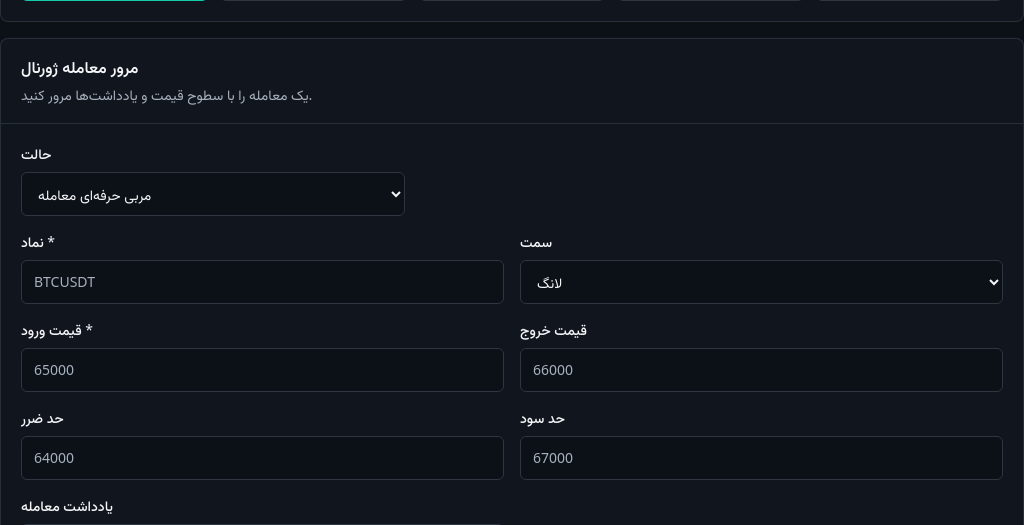
AiAssistantScreen language › shows the answer under Persian headings, with no English dev wording left on a Persian screen
(page scrolled)
Type "EURUSD" into the field named "symbol" at [262, 282], box [21,260,504,304]
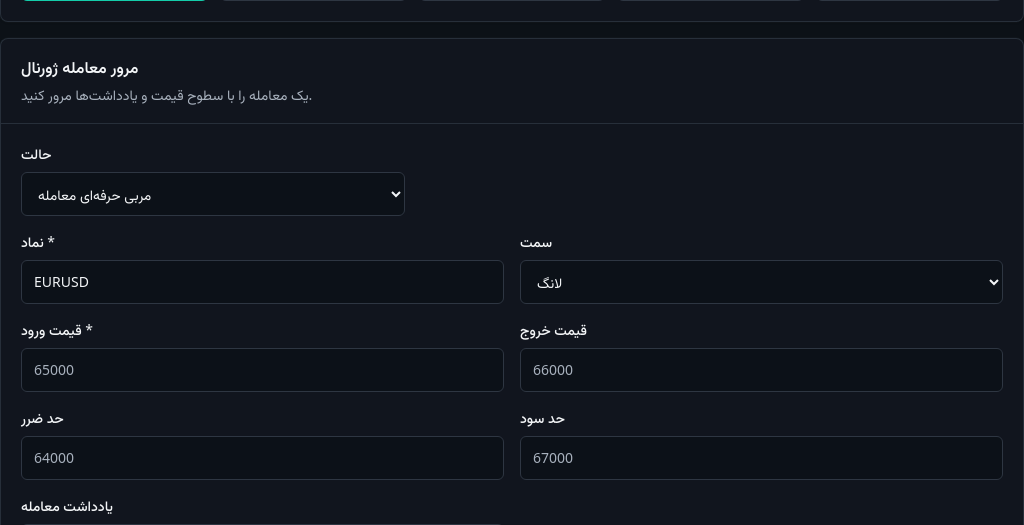
Type "1.1" into the field named "entryPrice" at [262, 370], box [21,348,504,392]
(page scrolled)
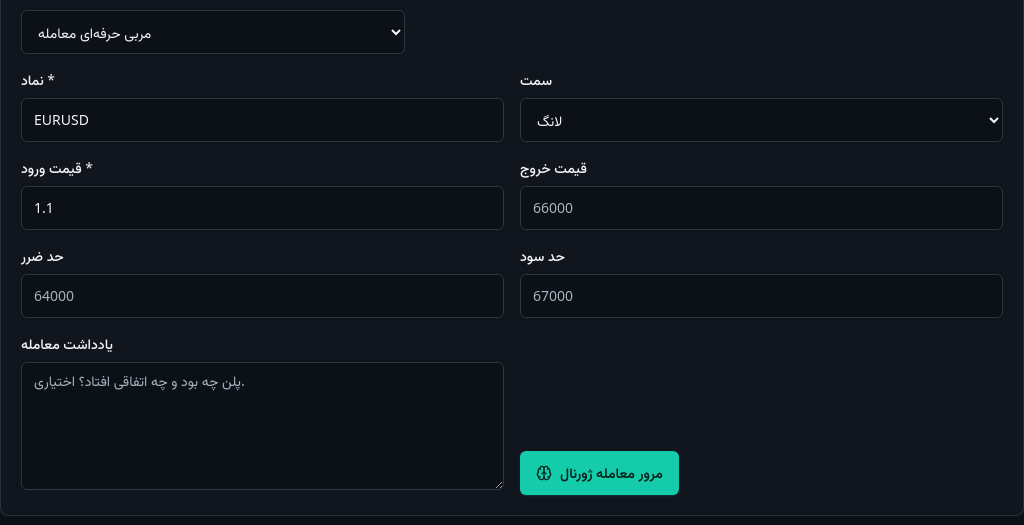
Submit the form
(page scrolled)
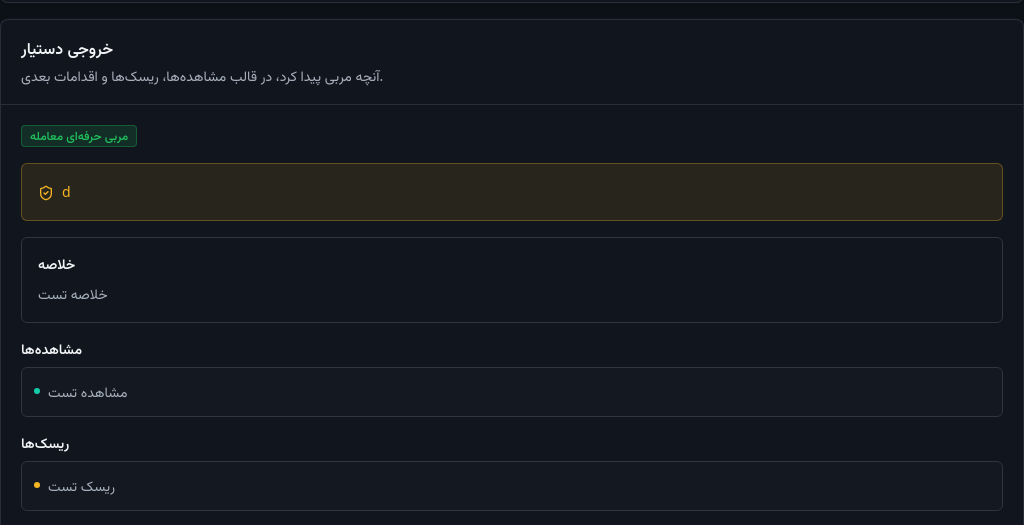
Expected: the text "اقدامات بعدی" is shown, [21,66,383,85]
Expected: the text "خلاصه تست" is shown, [38,284,108,303]
